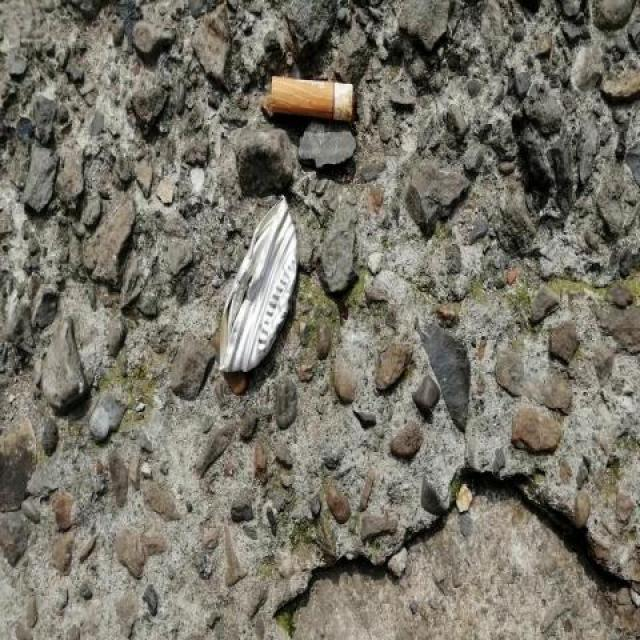non-organic waste: (263, 71, 365, 130)
